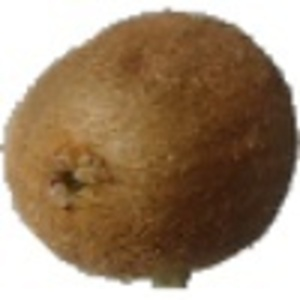kiwi: (1, 1, 300, 292)
